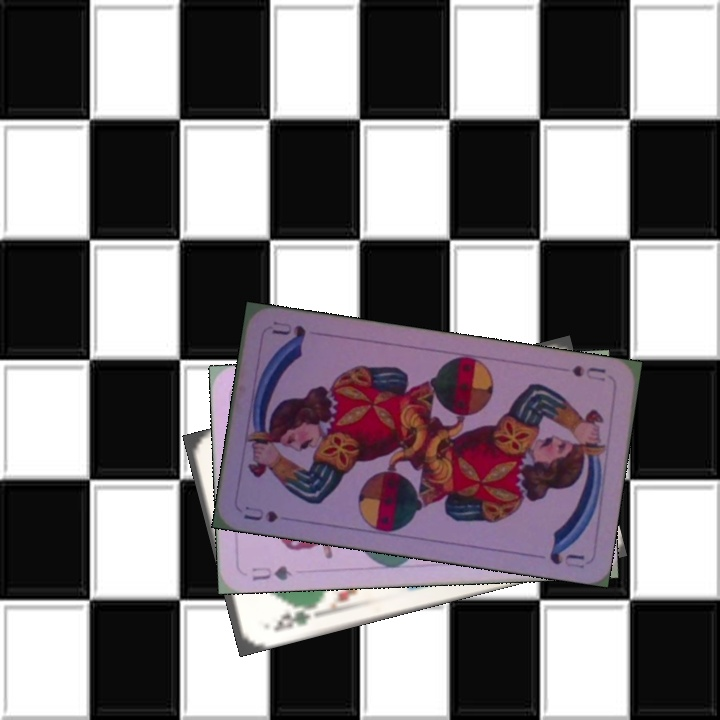GK: (269, 603, 314, 634)
GU: (248, 562, 295, 583)
SU: (240, 502, 280, 525), (568, 361, 608, 384)
